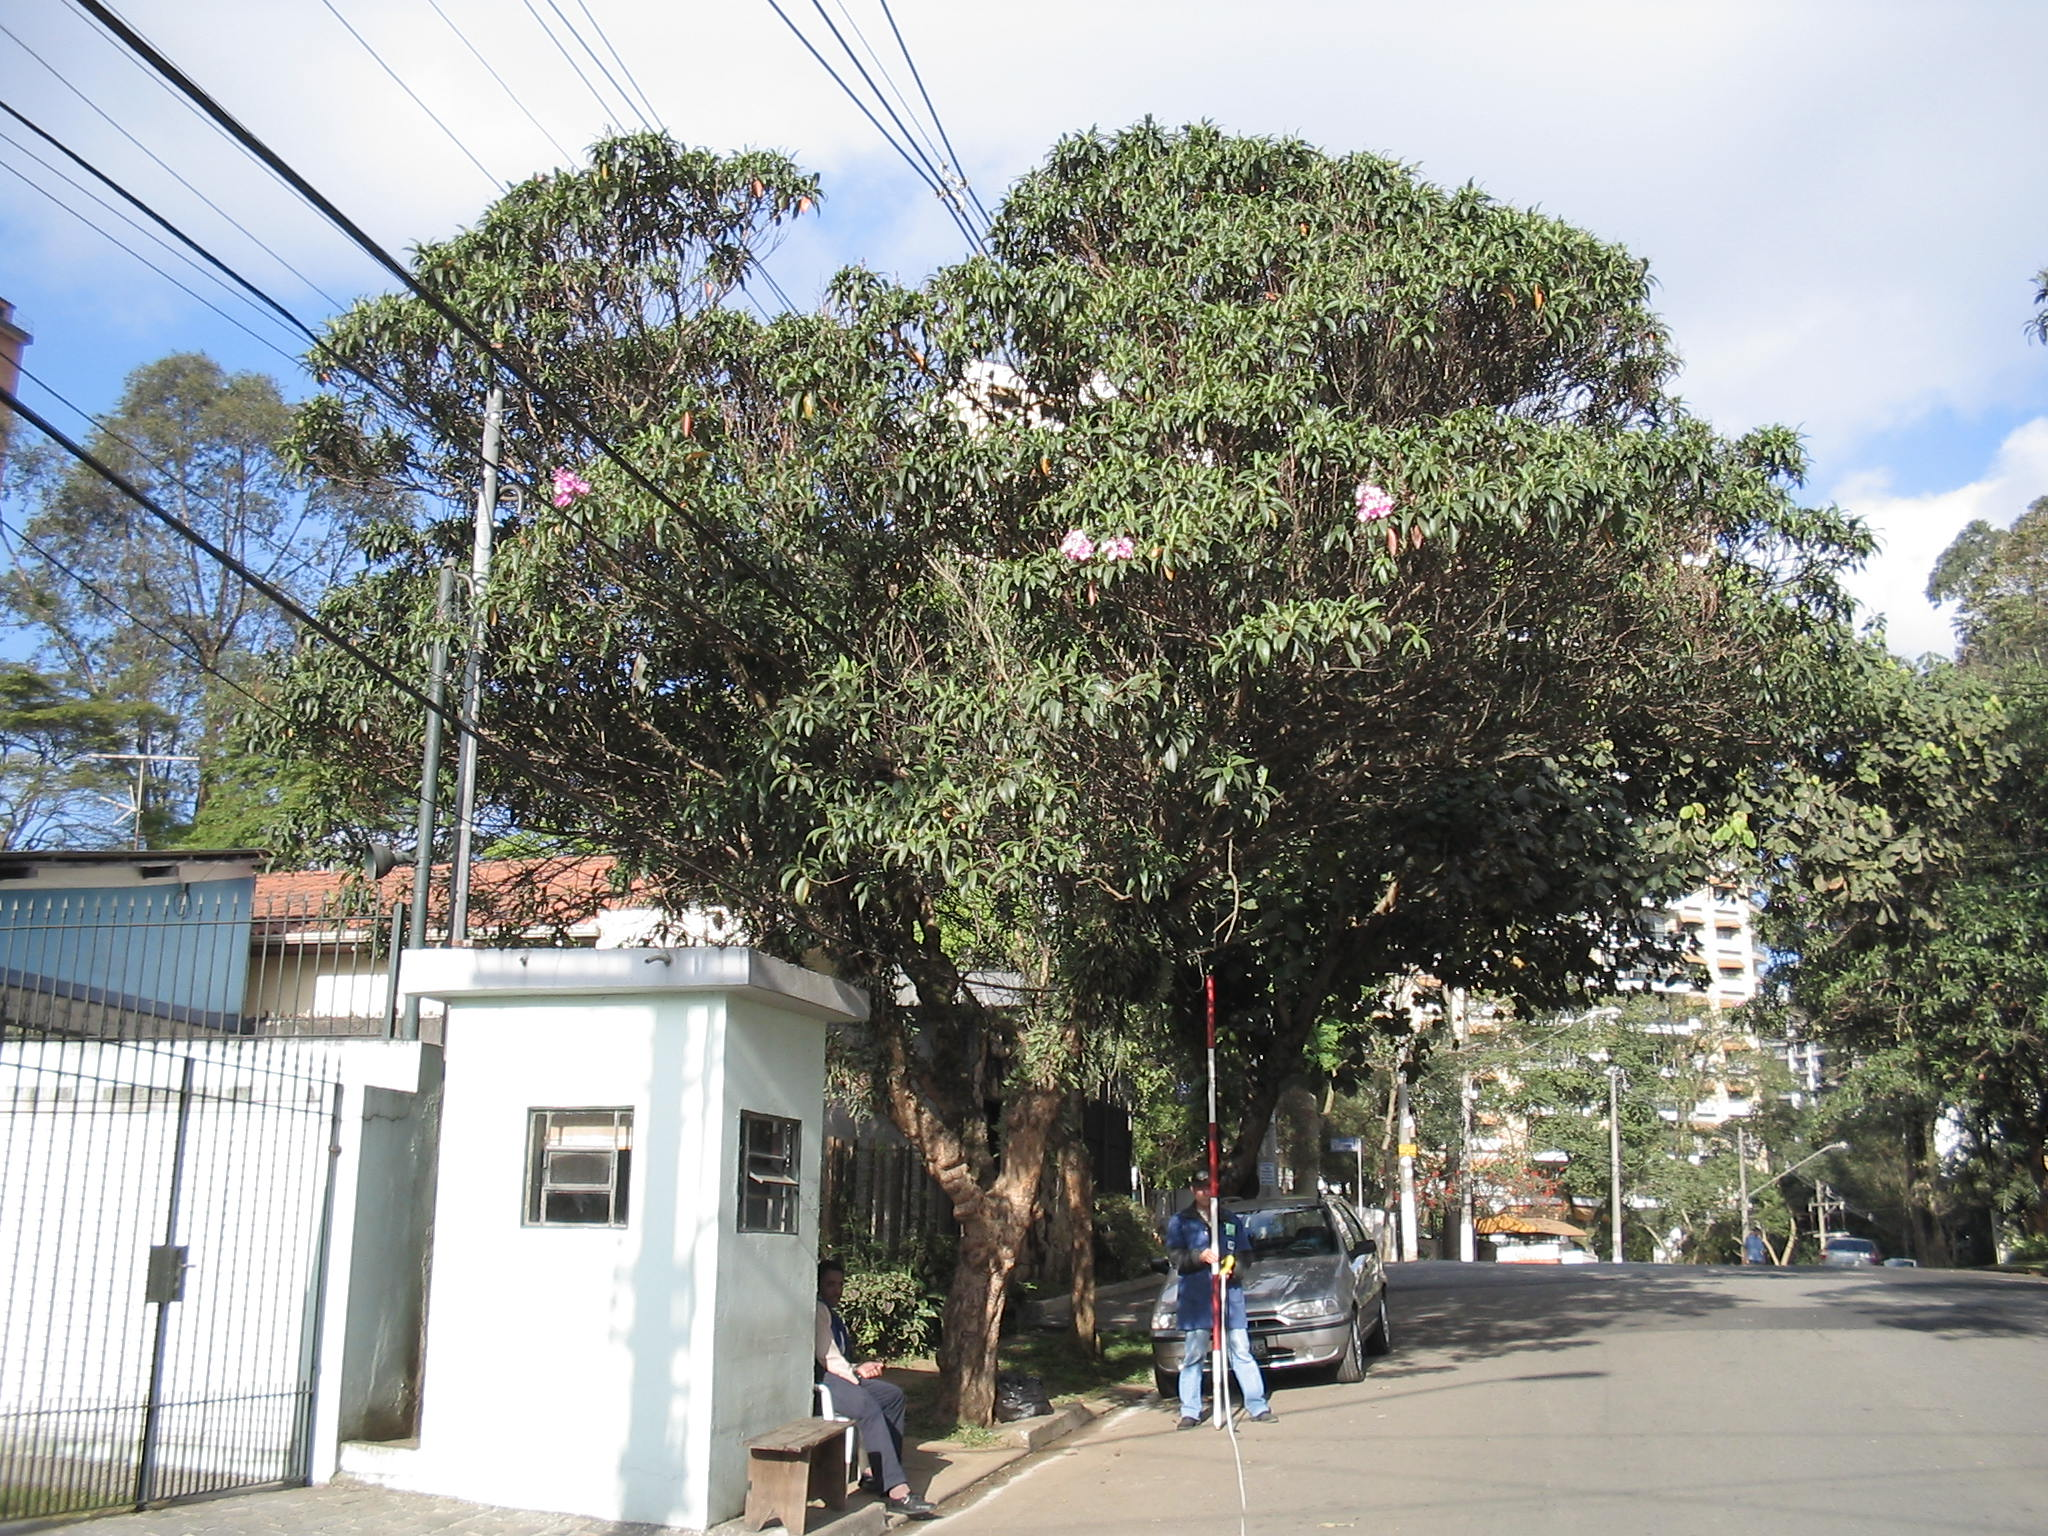crown: (268, 124, 1895, 1071)
stem: (914, 1208, 1047, 1430)
stick: (1192, 983, 1238, 1433)
tree: (260, 123, 1896, 1431)
